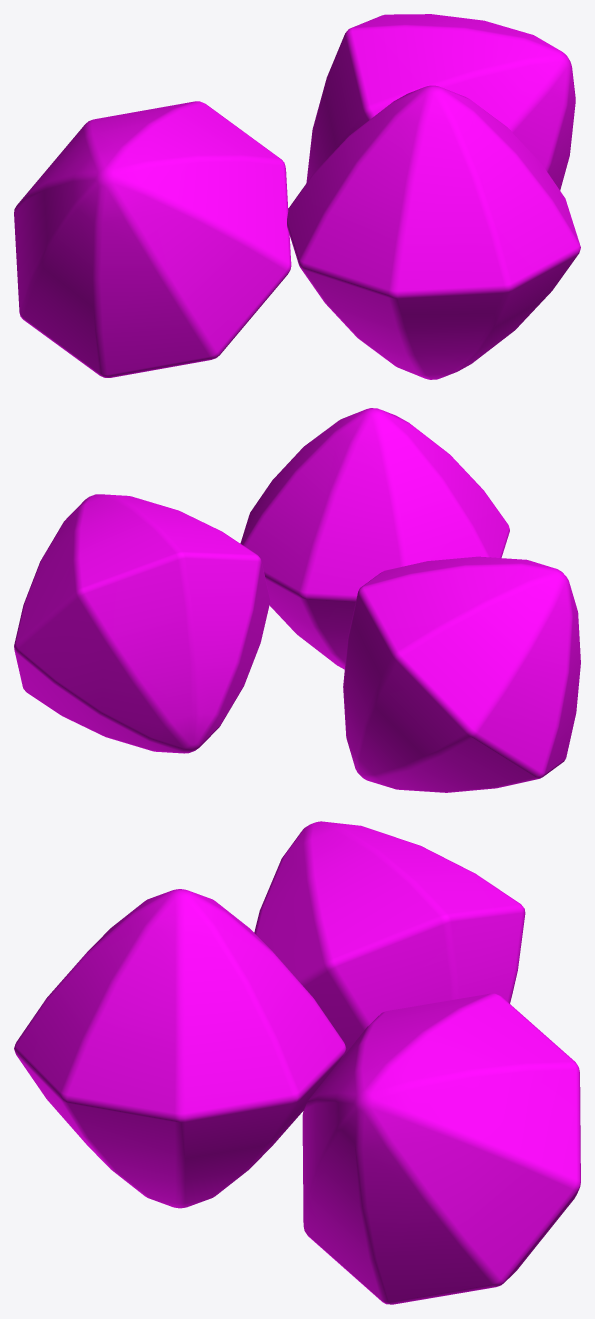
The picture shows the model from 3 angles, top to bottom: view 1: azimuth 30°, elevation 25°; view 2: azimuth 150°, elevation 25°; view 3: azimuth 270°, elevation 25°; orthographic projection. The views are drawn at different scales.
Visible parts, largest first — view 1: model_0.114; view 2: model_0.114; view 3: model_0.114.
Part boxes in pixels (x1=…): model_0.114: x1=14, y1=14, x2=580, y2=379; model_0.114: x1=14, y1=408, x2=580, y2=792; model_0.114: x1=14, y1=821, x2=580, y2=1304.
Size of the model in its own units: 3.69 by 1.89 by 3.08.
